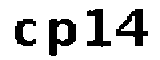1: (80, 5, 112, 50)
4: (114, 7, 152, 52)
c: (10, 14, 41, 49)
p: (45, 15, 77, 60)
